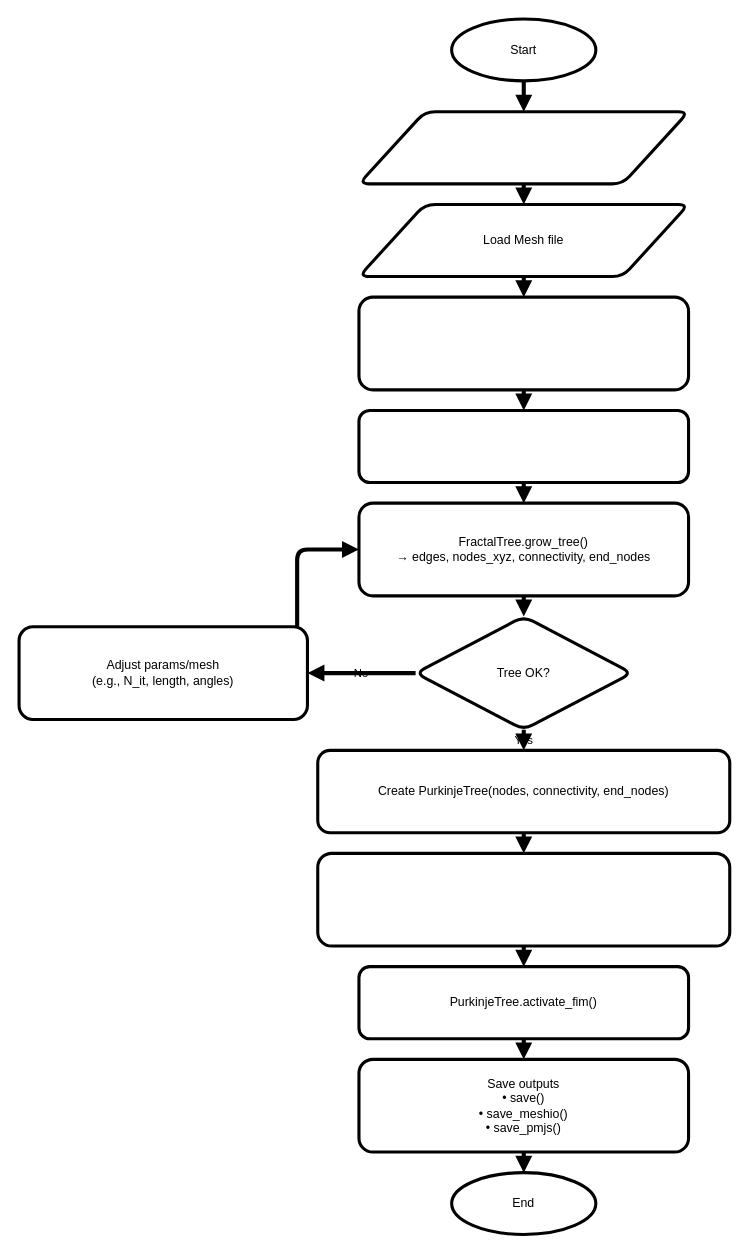
This 749x1254 diagram has some shape labels left out. Here are the shapes that lost their labels. From the top down, the box of each, then its label:
(357, 110, 690, 185): Create FractalTreeParameters()
(357, 295, 690, 391): Mesh preprocessing • detect_boundary() • compute_uvscaling()
(357, 408, 690, 484): Create FractalTree(mesh, params)
(316, 851, 731, 947): (optional) PMJ extraction • extract_pmj_np_unique() / _bincount() / _counter()
